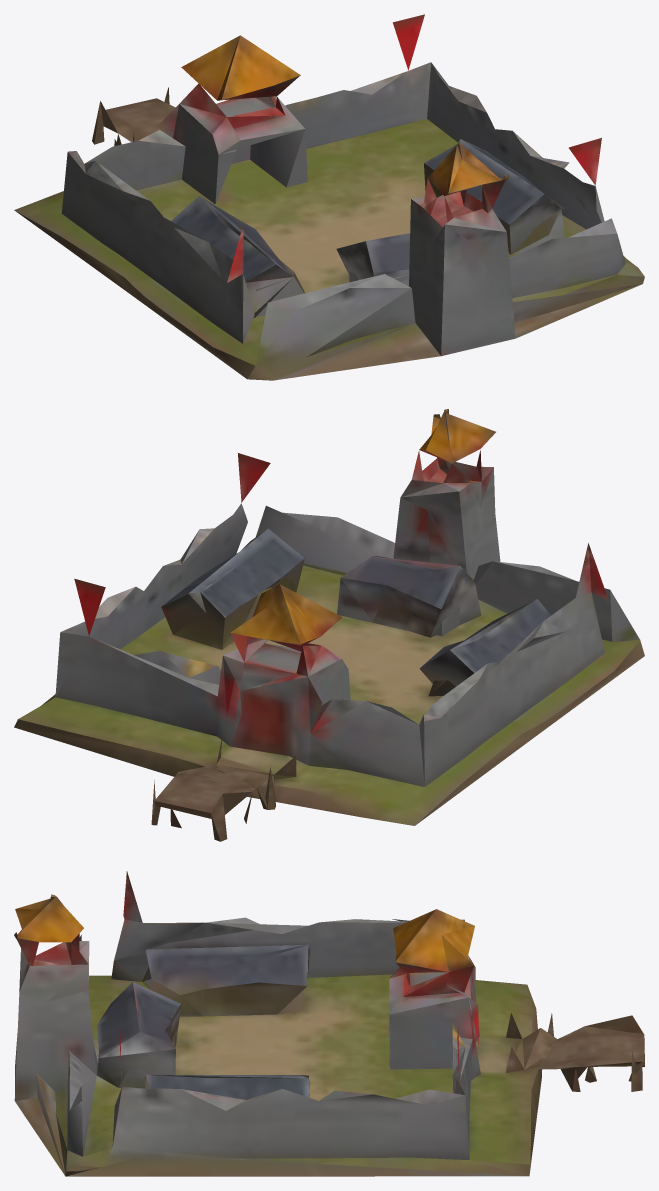
File: camp_ming_2_far.glb
3 views of the same model, one above another, from view 1: azimuth 30°, elevation 25°; view 2: azimuth 150°, elevation 25°; view 3: azimuth 270°, elevation 25° (orthographic).
Parts seen in each view (by area): view 1: camp_ming_2_far; view 2: camp_ming_2_far; view 3: camp_ming_2_far.
Part boxes in pixels (x1,y1,x2,y2): camp_ming_2_far: (14, 14, 644, 380); camp_ming_2_far: (14, 409, 644, 841); camp_ming_2_far: (14, 871, 644, 1176).
Bounding box in the file's own units: 0.7288 × 0.3443 × 1.
1 material, 1 textured.
